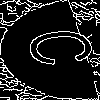C: (24, 25, 100, 69)
